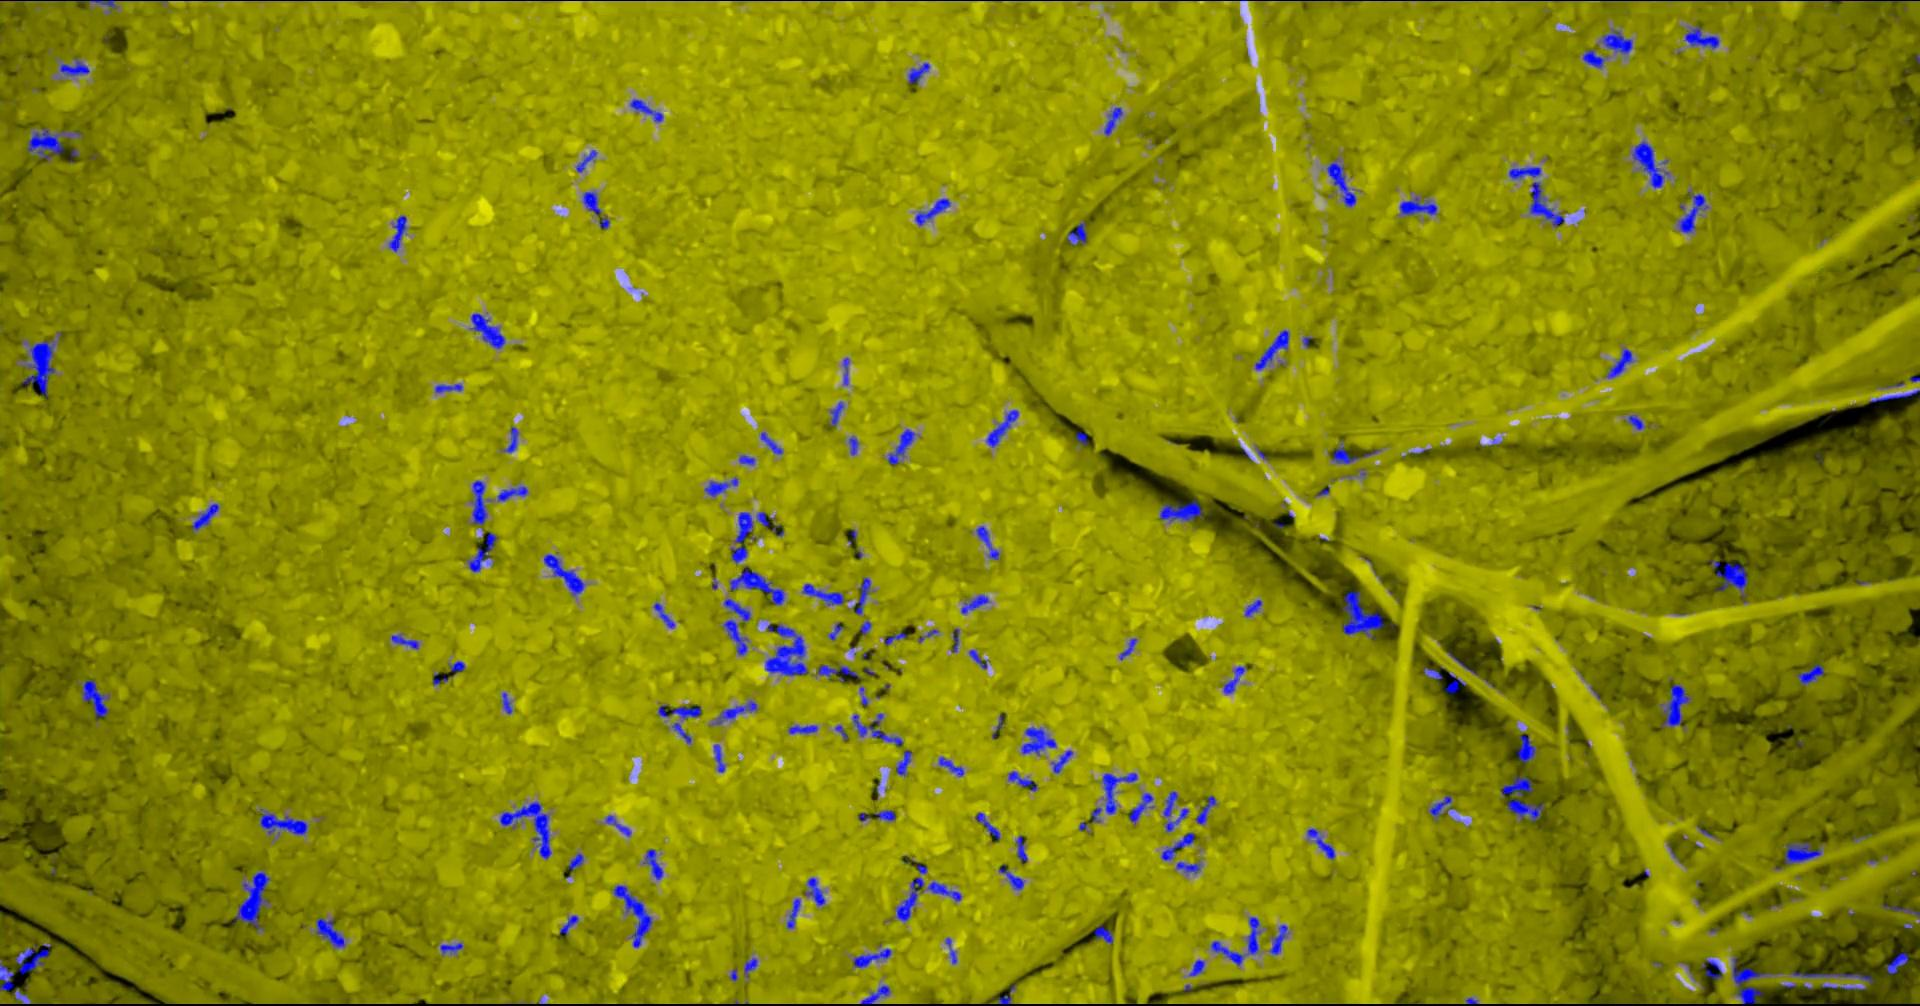ant: (895, 862, 961, 920), (1509, 166, 1564, 226), (499, 801, 551, 857), (612, 885, 651, 948), (231, 871, 270, 930), (1090, 772, 1137, 821), (1731, 955, 1777, 1005), (1341, 589, 1383, 640), (729, 567, 783, 605), (1501, 775, 1544, 821), (22, 339, 55, 398), (1630, 140, 1669, 188), (543, 553, 584, 594), (1709, 559, 1747, 602), (852, 713, 902, 746), (1326, 158, 1356, 206), (1255, 329, 1288, 370), (730, 511, 756, 563), (1677, 189, 1708, 232), (259, 808, 307, 835), (470, 312, 505, 348), (467, 528, 497, 572), (1660, 683, 1689, 727), (25, 127, 63, 160), (985, 409, 1018, 447), (0, 958, 25, 1005), (14, 942, 51, 974), (1159, 499, 1209, 521), (81, 680, 108, 719), (582, 191, 610, 227), (1020, 727, 1057, 754), (715, 700, 757, 724), (914, 198, 950, 225), (888, 428, 914, 464), (1790, 970, 1873, 982), (1305, 827, 1335, 859), (1161, 832, 1194, 860), (801, 583, 843, 605), (315, 917, 344, 948), (723, 619, 747, 655), (1605, 347, 1633, 379), (1783, 841, 1821, 864), (1210, 940, 1243, 965), (629, 98, 663, 122), (975, 525, 999, 559), (1684, 25, 1719, 48), (1128, 793, 1153, 822), (1601, 30, 1632, 55), (852, 948, 890, 967), (190, 503, 218, 528), (756, 511, 783, 536), (975, 812, 999, 841), (1399, 196, 1436, 215), (817, 664, 858, 681), (471, 480, 486, 525), (657, 704, 701, 719), (723, 598, 750, 622), (389, 215, 406, 251), (998, 864, 1023, 889), (1223, 666, 1246, 694), (1195, 795, 1217, 824), (1869, 389, 1919, 401), (1007, 770, 1037, 790), (1429, 795, 1455, 818), (804, 876, 825, 904), (860, 984, 889, 1005), (703, 478, 737, 495), (643, 848, 662, 879), (1269, 923, 1288, 954), (1797, 663, 1823, 685), (855, 577, 870, 614), (1103, 105, 1123, 135), (960, 594, 989, 614), (1164, 808, 1189, 831), (1884, 951, 1909, 974), (653, 602, 674, 627), (58, 57, 89, 75), (604, 815, 631, 836), (1331, 445, 1359, 464), (1516, 734, 1535, 762), (1246, 916, 1260, 954), (759, 431, 782, 453), (1443, 672, 1465, 694), (1065, 221, 1086, 245), (1051, 749, 1072, 774), (938, 756, 963, 776), (1881, 904, 1919, 917), (907, 62, 930, 83), (575, 149, 596, 171), (497, 485, 527, 500), (670, 721, 691, 743), (565, 852, 583, 876), (786, 898, 800, 929), (1582, 50, 1604, 69), (1117, 638, 1137, 659), (503, 426, 518, 452), (895, 749, 910, 776), (1702, 959, 1721, 979), (996, 984, 1015, 1005), (391, 634, 418, 648), (712, 743, 725, 772), (1162, 791, 1177, 815), (559, 915, 578, 934), (968, 649, 985, 668), (1015, 835, 1027, 861), (1093, 925, 1112, 942), (943, 937, 956, 963), (75, 0, 116, 8), (830, 401, 843, 426), (883, 631, 905, 644), (1176, 861, 1201, 873), (743, 956, 757, 977), (1244, 600, 1261, 616), (1627, 414, 1644, 429), (828, 621, 842, 640), (439, 942, 462, 954), (1189, 959, 1204, 976), (434, 384, 462, 392), (874, 809, 895, 821), (1423, 667, 1443, 680), (789, 725, 817, 733), (502, 692, 512, 713), (450, 661, 463, 674), (738, 453, 754, 465), (432, 672, 448, 683), (950, 627, 957, 652), (848, 436, 858, 453), (842, 357, 848, 385), (1076, 431, 1087, 445), (860, 620, 871, 634)
